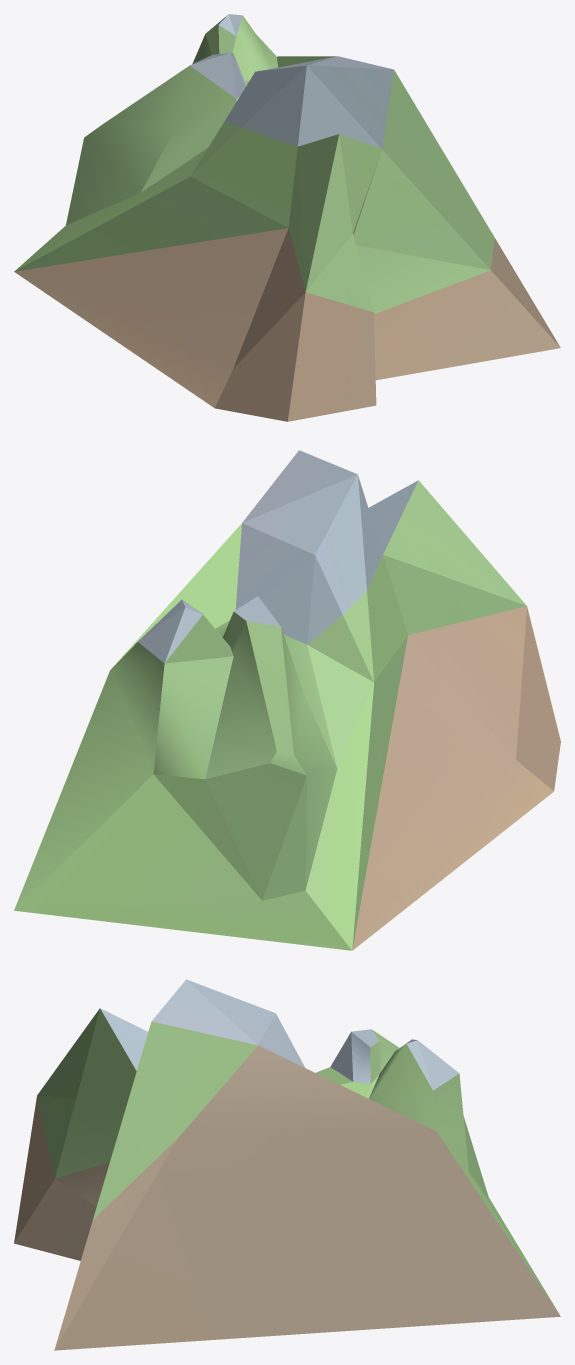
The model's file is Rock_01.fbx.
3 renders of one model, top to bottom at view 1: azimuth 30°, elevation 25°; view 2: azimuth 150°, elevation 25°; view 3: azimuth 270°, elevation 25°, orthographic. The views are drawn at different scales.
Visible parts, largest first — view 1: pCube12; view 2: pCube12; view 3: pCube12.
Part boxes in pixels (x1,y1,x2,y2): pCube12: [14, 14, 560, 421]; pCube12: [14, 450, 560, 950]; pCube12: [14, 979, 560, 1350].
Bounding box in the file's own units: 10.78 × 8.69 × 15.4.
